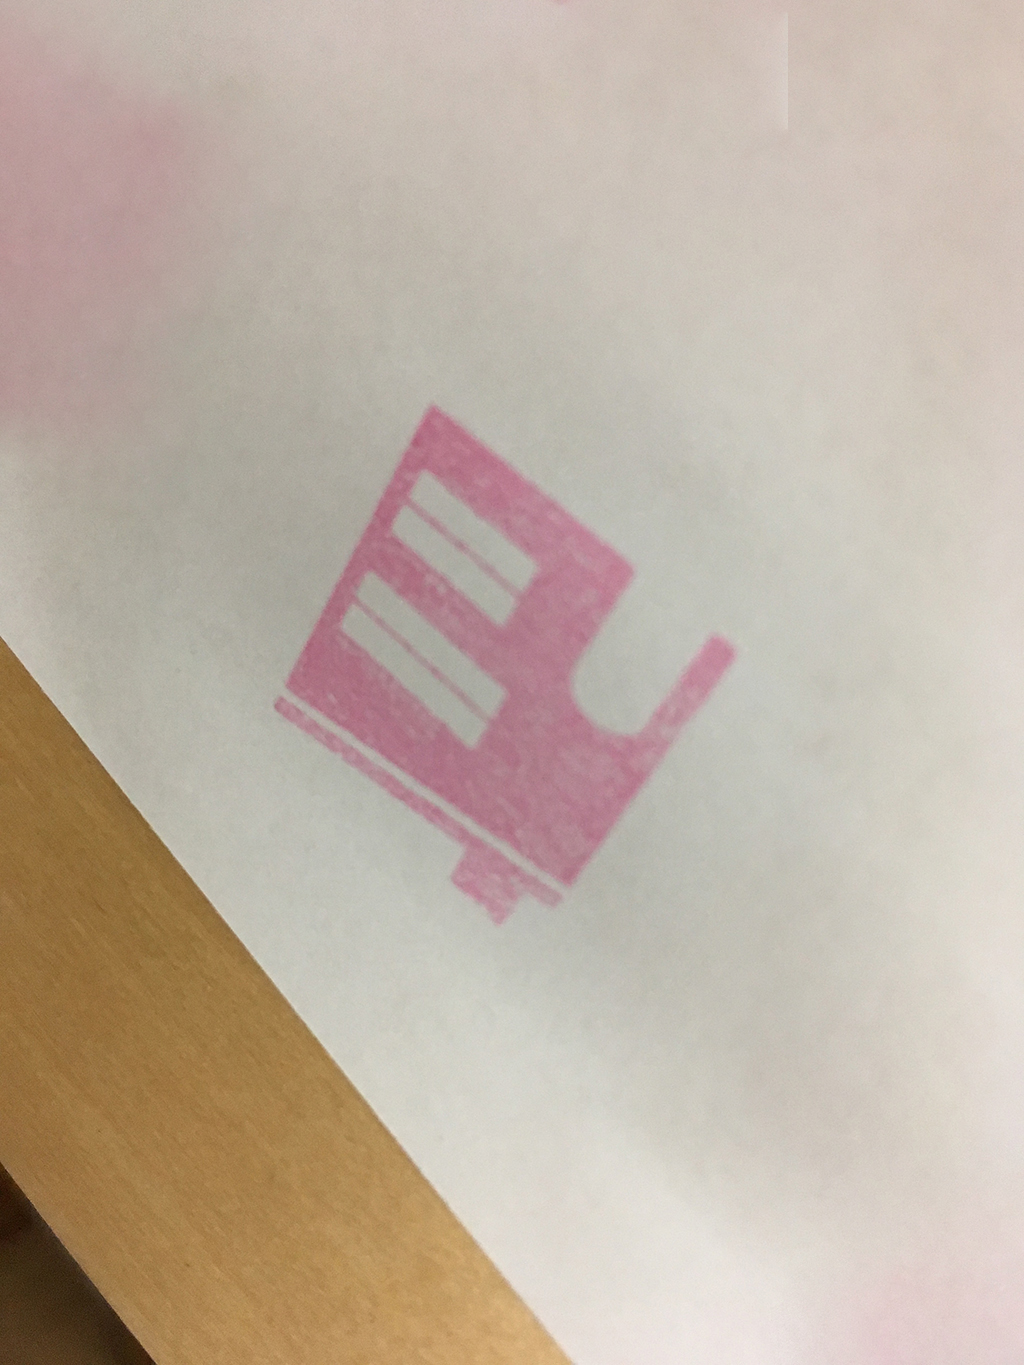house: (255, 352, 782, 948)
